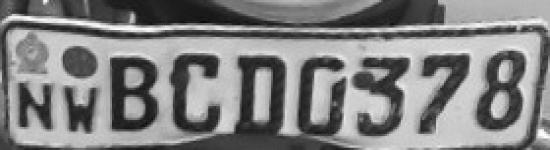0: (291, 46, 348, 146)
3: (352, 49, 412, 145)
7: (414, 48, 473, 146)
8: (475, 45, 528, 142)
B: (107, 49, 163, 139)
C: (169, 46, 224, 140)
D: (233, 49, 285, 141)
K: (58, 80, 100, 140)
N: (13, 76, 56, 134)
